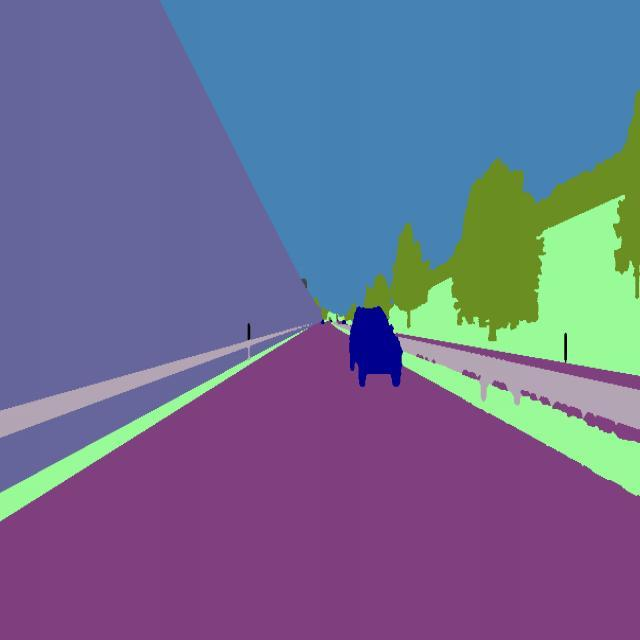safe: (348, 300, 404, 396)
